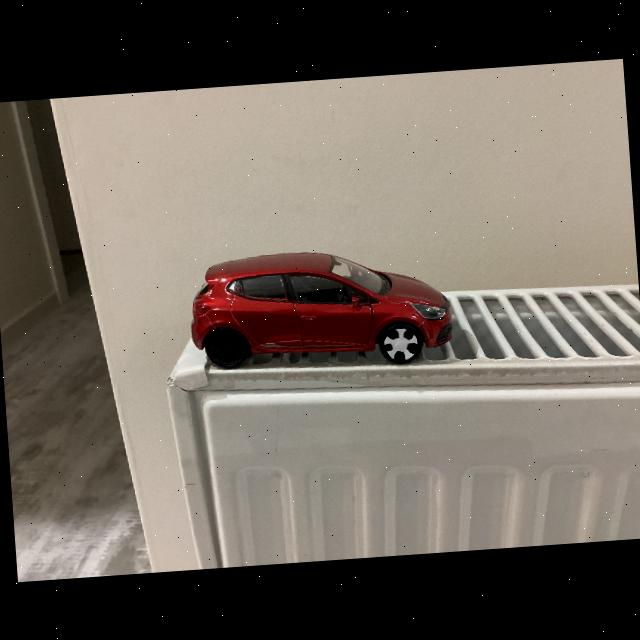Dogru_Jant: (208, 332, 244, 365)
Yanlis_Jant: (381, 326, 419, 361)
